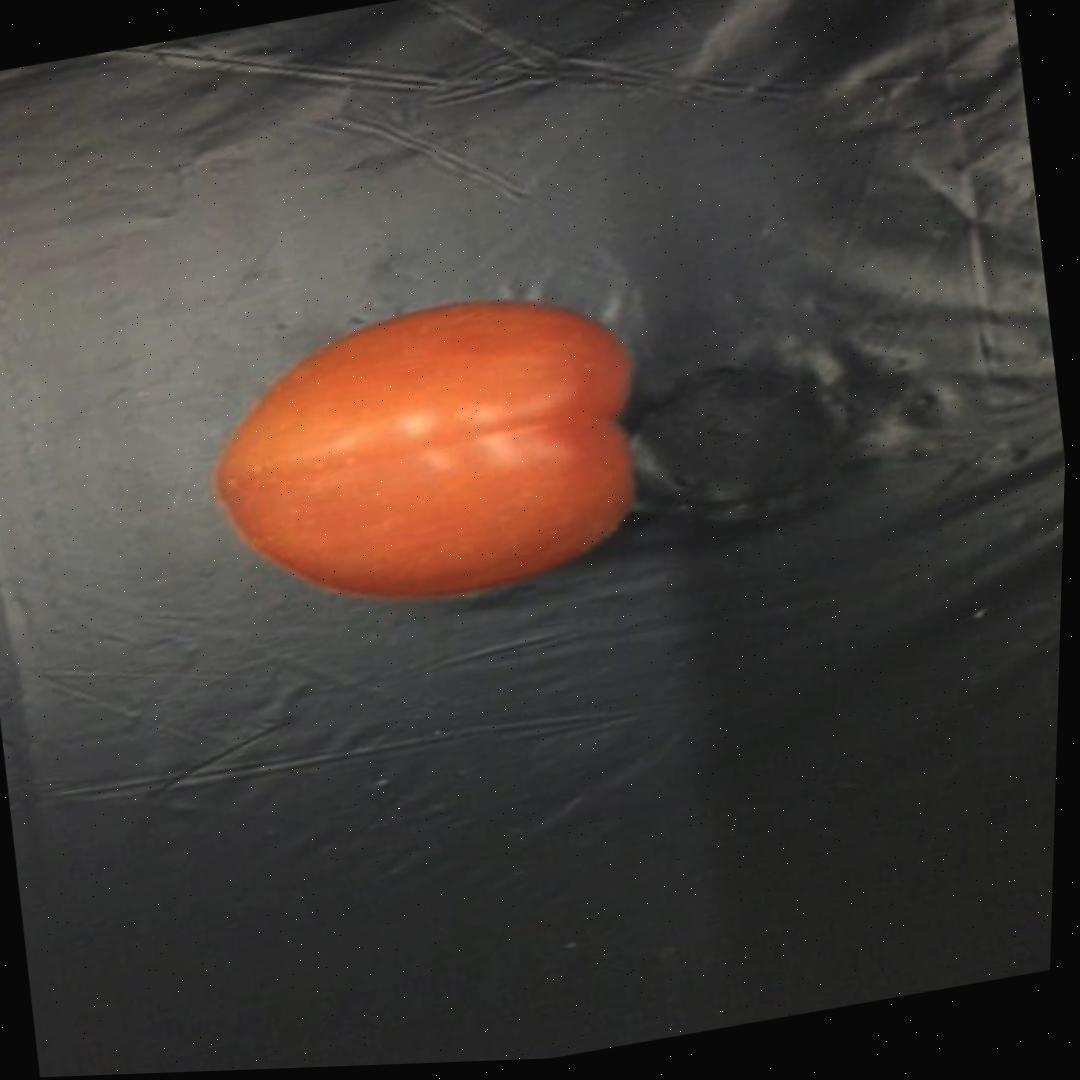matang: (193, 270, 662, 633)
